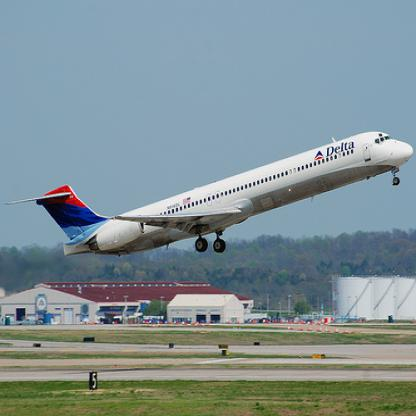aeroplane: (4, 130, 414, 256)
